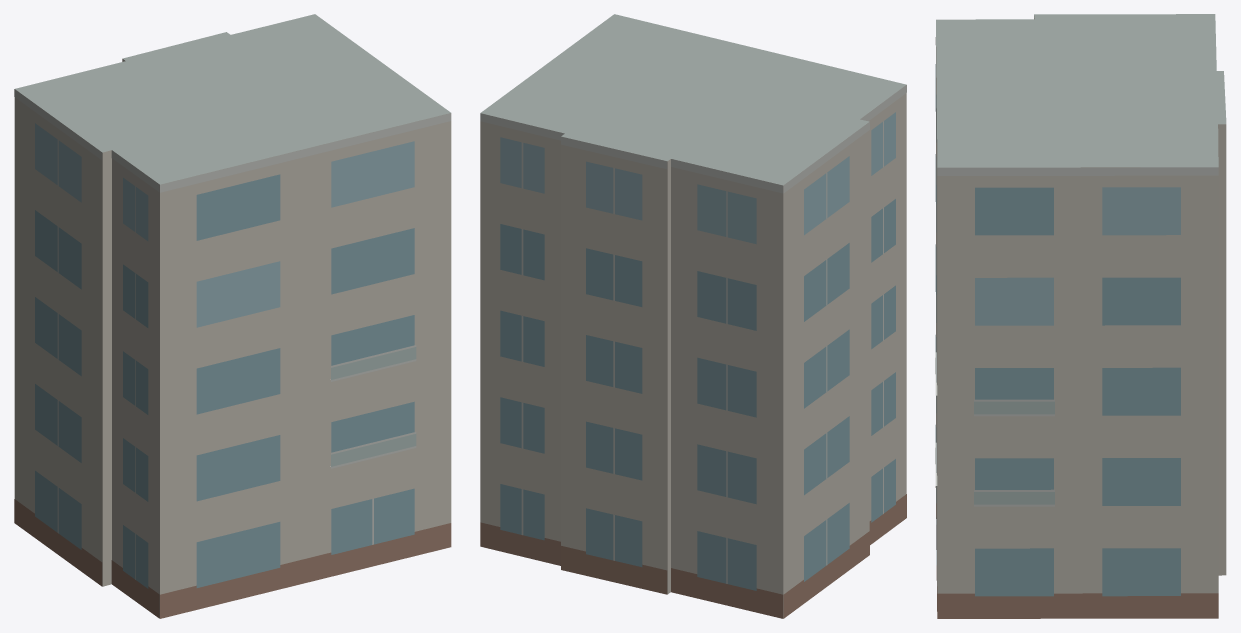
Rendered from survey-upis-32657306.glb.
3 renders of one model, left to right at view 1: azimuth 30°, elevation 25°; view 2: azimuth 150°, elevation 25°; view 3: azimuth 270°, elevation 25°, orthographic. The views are drawn at different scales.
Parts seen in each view (by area): view 1: survey-upis-32657306.tmp; view 2: survey-upis-32657306.tmp; view 3: survey-upis-32657306.tmp.
Boxes of the visible parts, x1=… form: survey-upis-32657306.tmp: x1=14, y1=14, x2=451, y2=618; survey-upis-32657306.tmp: x1=480, y1=14, x2=906, y2=618; survey-upis-32657306.tmp: x1=935, y1=14, x2=1226, y2=618.
Size of the model in its own units: 9.58 by 13.06 by 7.65.
